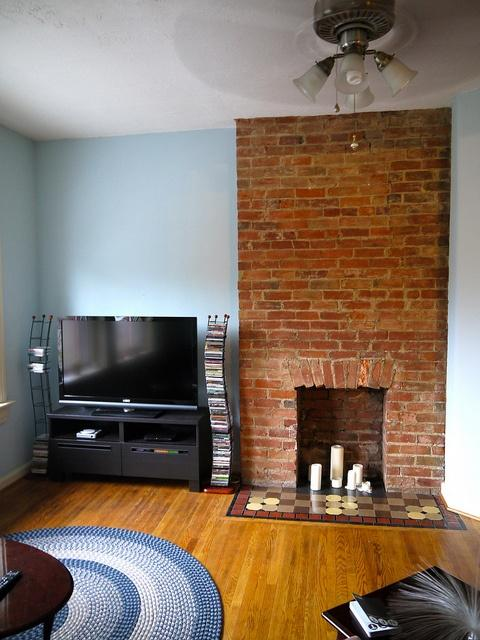AIO PC-Monitor-TV: (55, 314, 199, 418)
